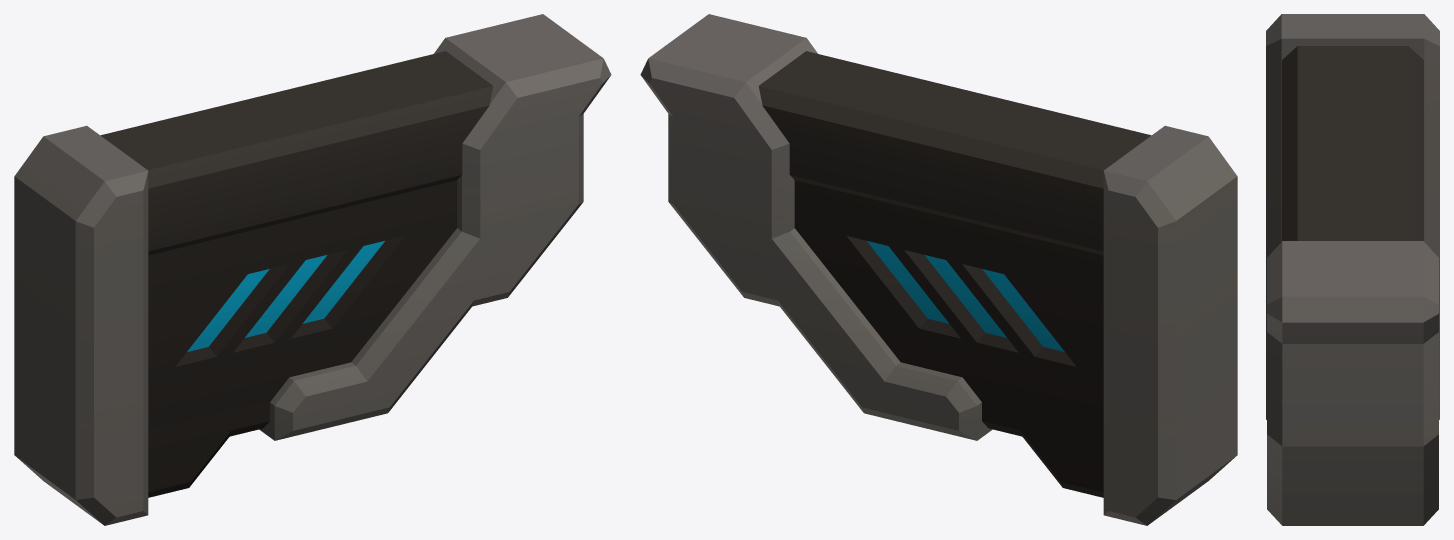
File: Shotgun4_ButtstockHeavy.fbx
3 views of the same model, side by side, from view 1: azimuth 30°, elevation 25°; view 2: azimuth 150°, elevation 25°; view 3: azimuth 270°, elevation 25° (orthographic). The views are drawn at different scales.
Visible parts, largest first — view 1: Shotgun4_ButtstockHeavy; view 2: Shotgun4_ButtstockHeavy; view 3: Shotgun4_ButtstockHeavy.
Part boxes in pixels (box(x1,y1,x2,y2)): Shotgun4_ButtstockHeavy: box(14, 14, 611, 525); Shotgun4_ButtstockHeavy: box(640, 14, 1237, 525); Shotgun4_ButtstockHeavy: box(1266, 14, 1439, 525).
Bounding box in the file's own units: 23.14 × 14.25 × 5.59.
